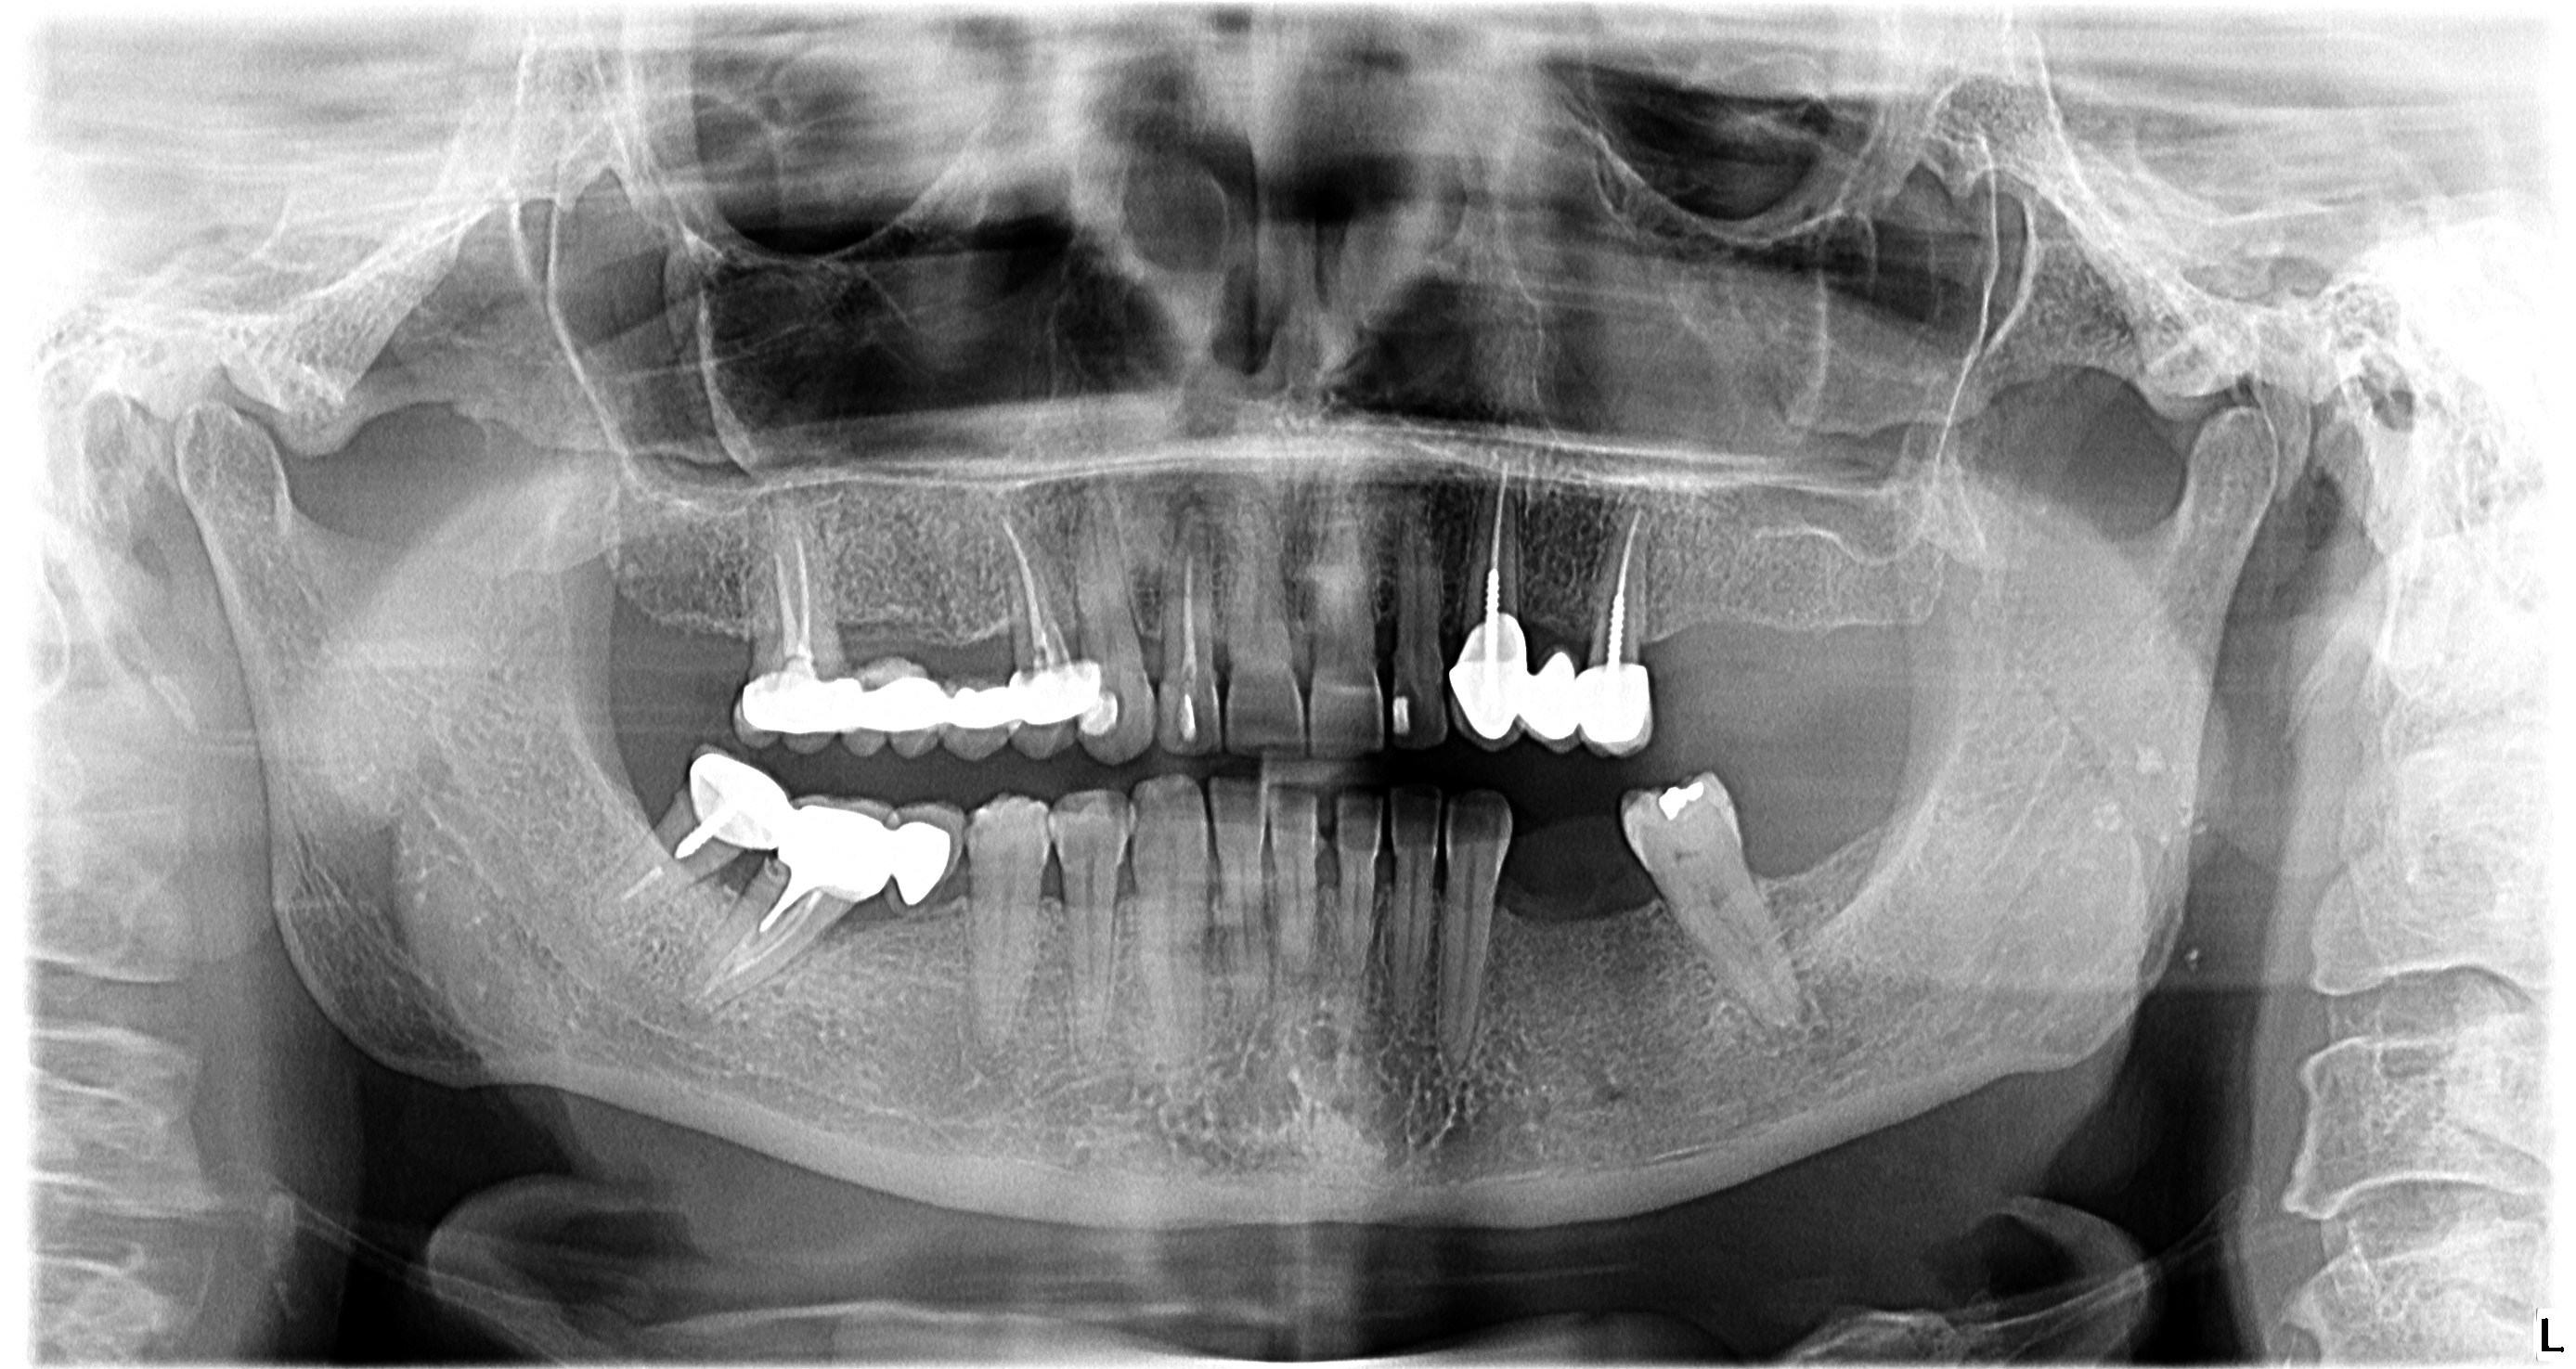API: (537, 201, 1755, 739)
BON: (346, 424, 1233, 1369), (286, 397, 1063, 1313)
END: (760, 179, 2411, 834), (702, 141, 2228, 771), (240, 358, 1080, 1369), (555, 186, 1772, 875), (448, 167, 1530, 855), (228, 366, 947, 1291), (324, 174, 1167, 848)
OBT: (794, 354, 2511, 1183), (673, 303, 2092, 1052), (564, 313, 1774, 1057), (489, 305, 1629, 1056)
PRR: (593, 249, 2271, 1023), (182, 278, 1152, 1195), (153, 252, 1269, 1027)
